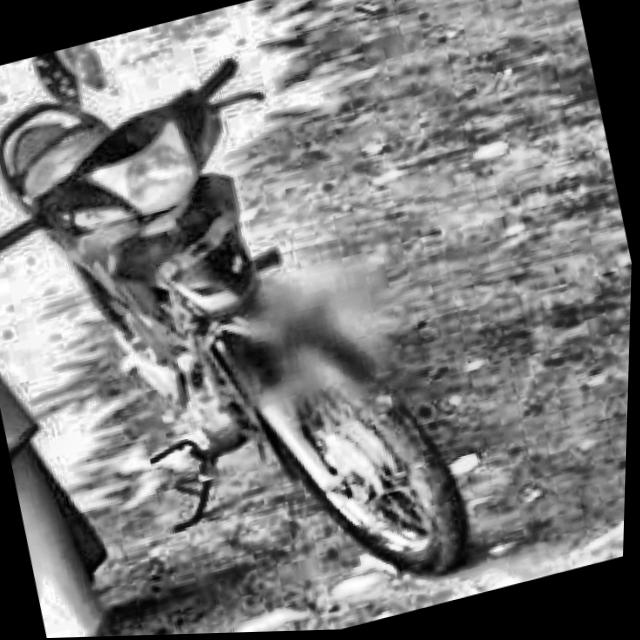motorcycle: (0, 10, 507, 640)
